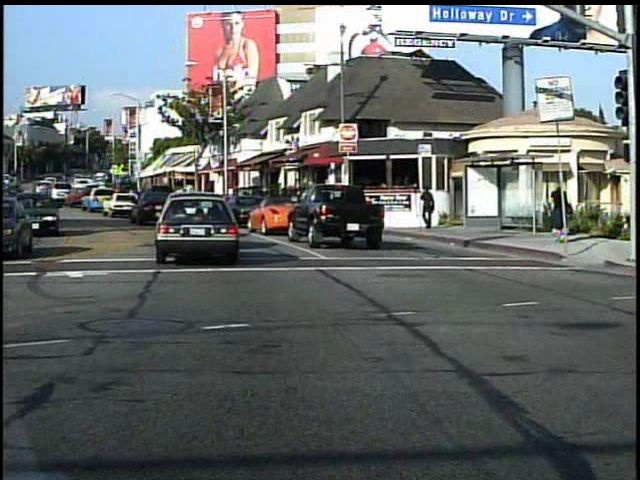person: (546, 177, 575, 250), (419, 185, 436, 235)
